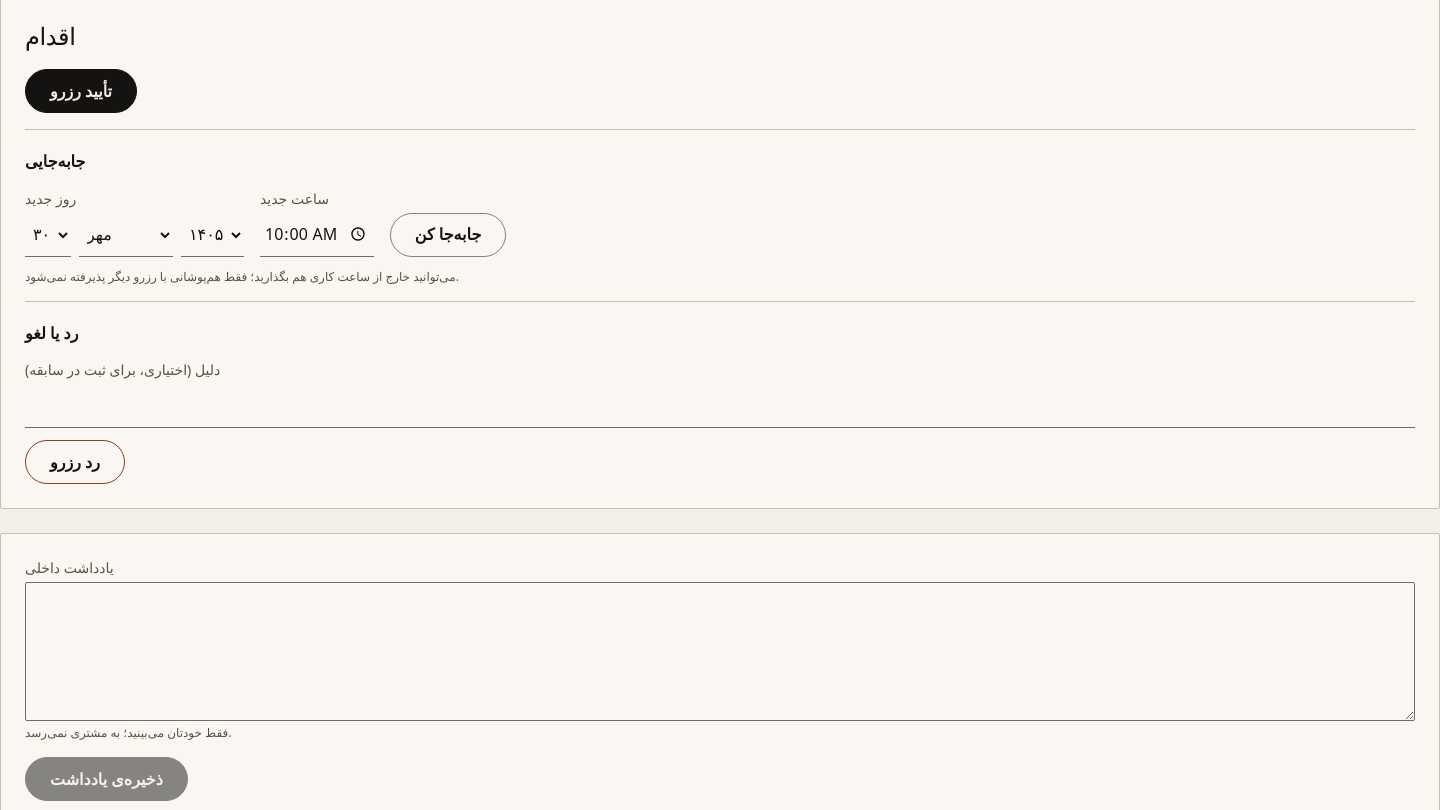
Test: BookingDetailPage › rejects with a reason after a confirmation
(page scrolled)
Type " پر است " into the field labelled "دلیل (اختیاری، برای ثبت در سابقه)" at (720, 406), box 25,384 -> 1415,428
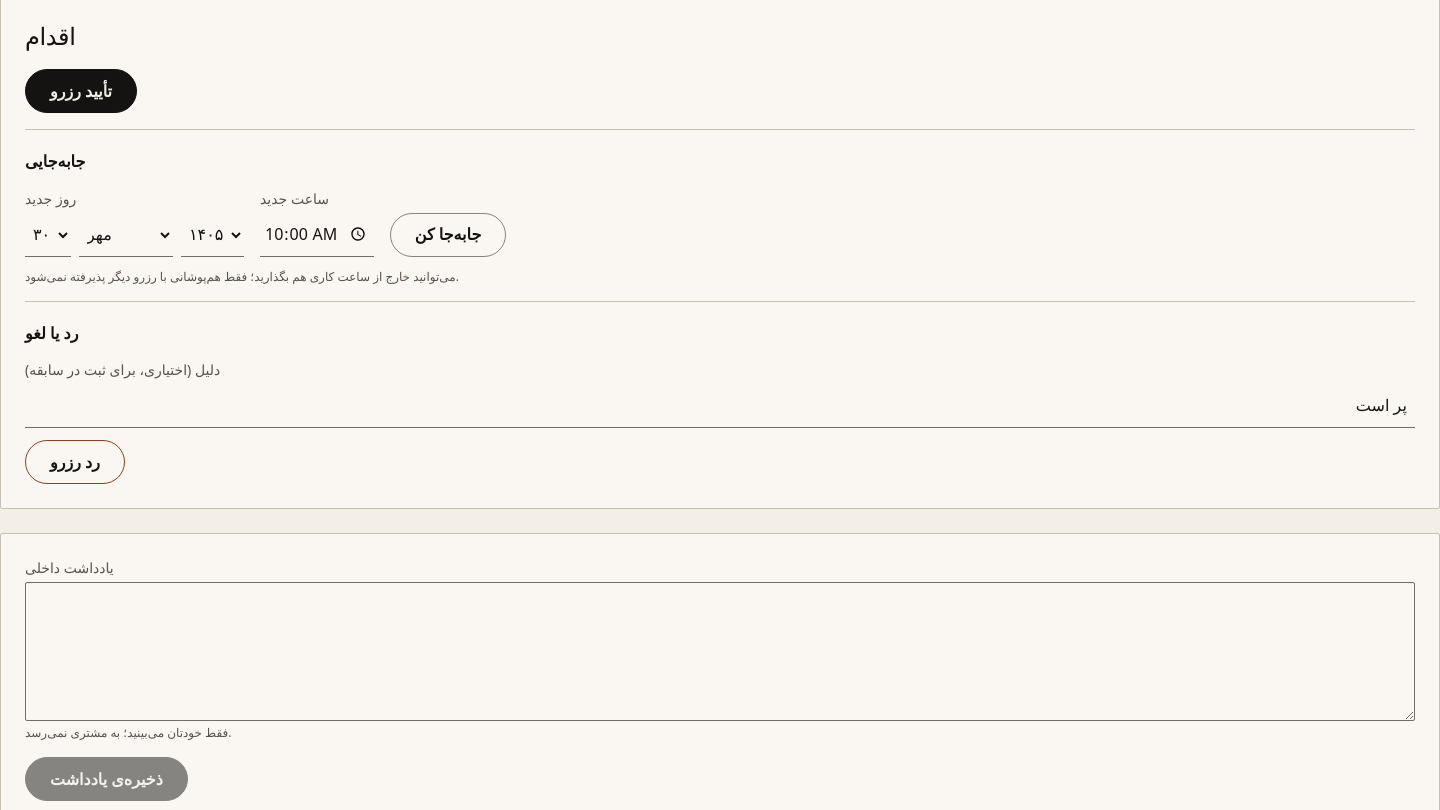
Click the button "رد رزرو" at (75, 462), box 25,440 -> 125,484
(page scrolled)
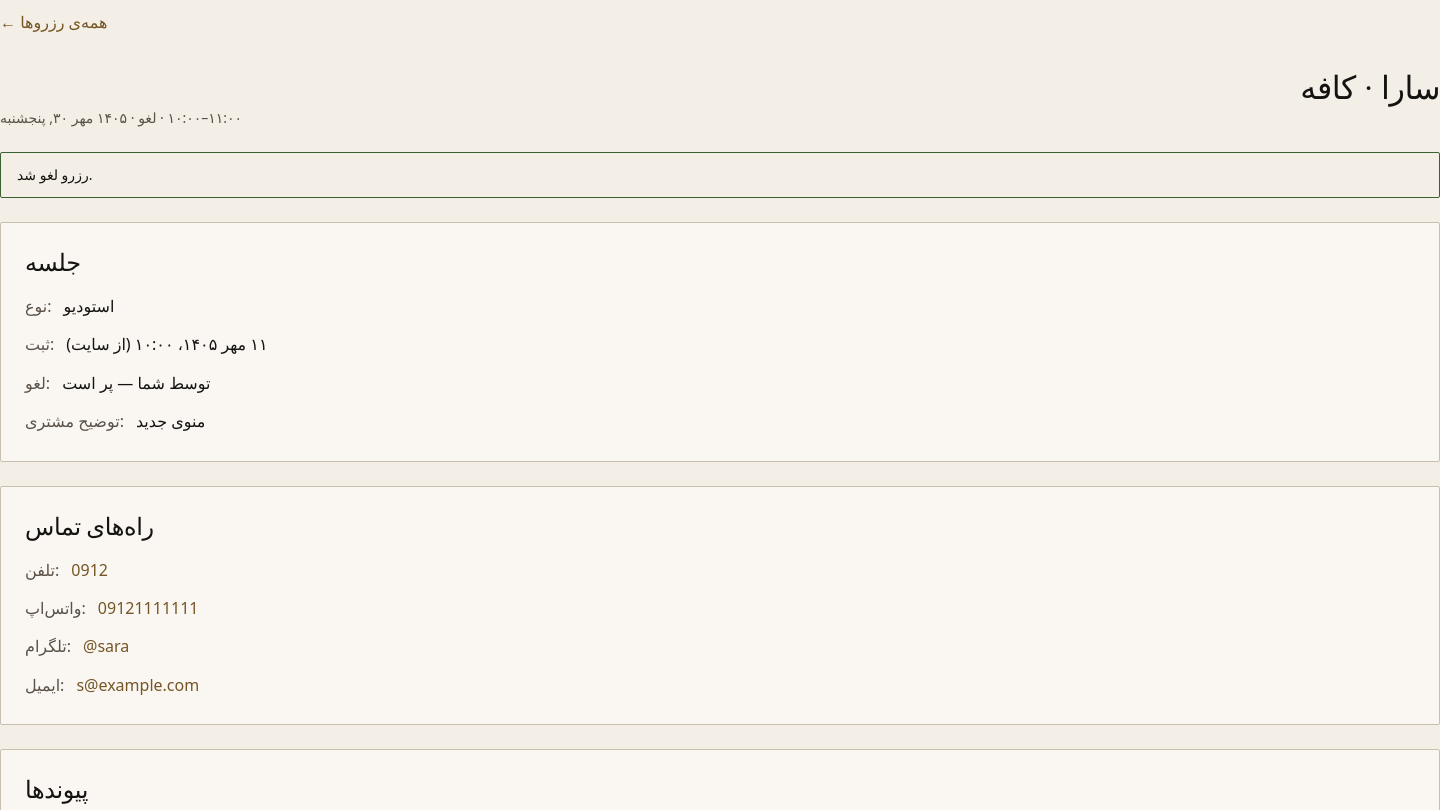
Now the text "رزرو لغو شد." is shown, box 0,152 -> 1439,198
Now the button "رد رزرو" is gone
